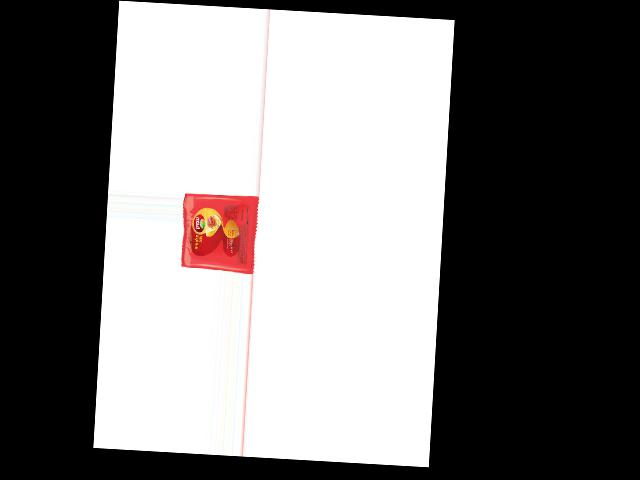cheese: (180, 191, 259, 271)
